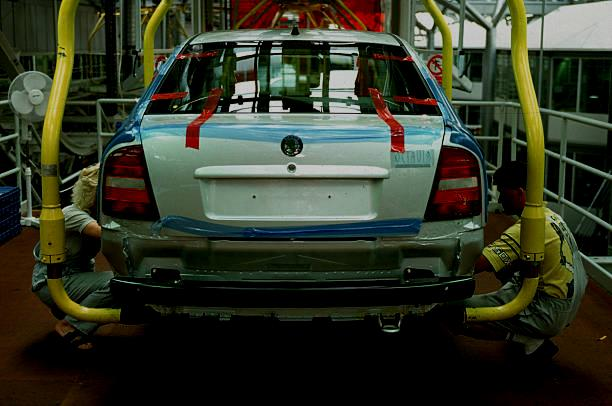skoda: (274, 129, 308, 162)
